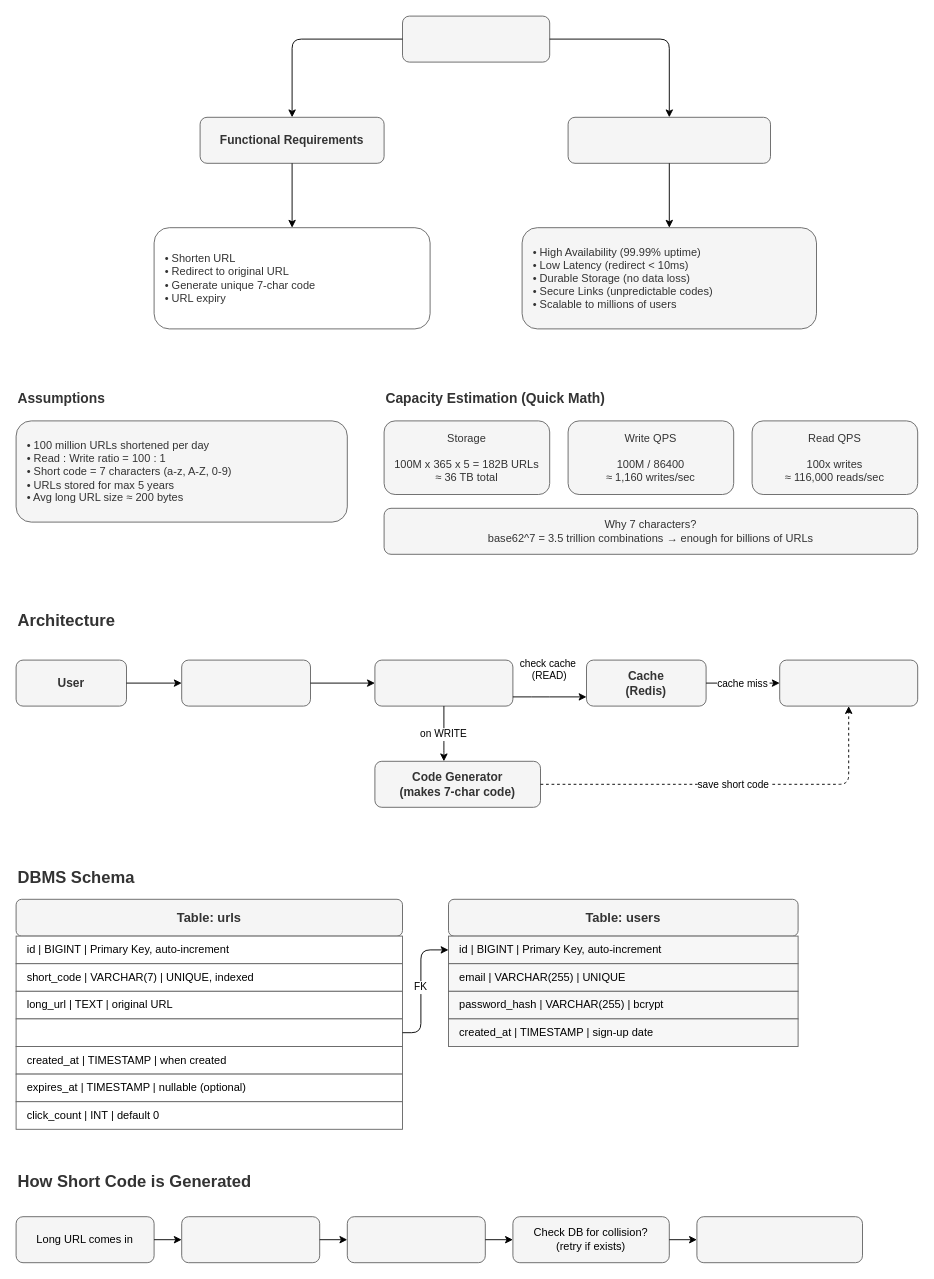
The diagram is 934 pixels wide and 1279 high, and some of its shapes have lost their labels. Each missing label, with the centre of its shape:
API Server (Node / Python): [443,682]
Database (PostgreSQL): [848,682]
Hash it (MD5): [250,1239]
Load Balancer: [245,682]
Non-Functional Requirements: [668,139]
Save to DB → tinyurl.com/aB3xY7k: [779,1239]
Take first 7 chars: [415,1239]
TinyURL: [476,38]
user_id | BIGINT | FK → users.id: [208,1032]
